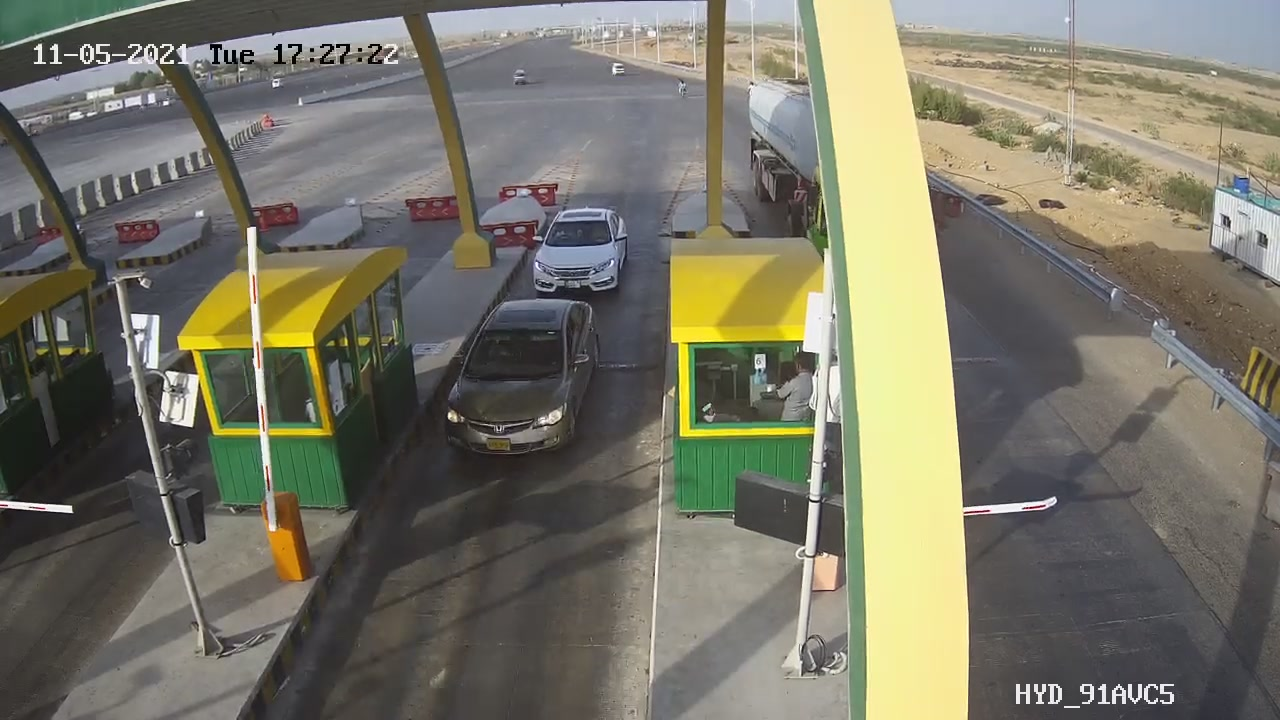F1: (431, 283, 620, 475), (514, 194, 646, 311)
